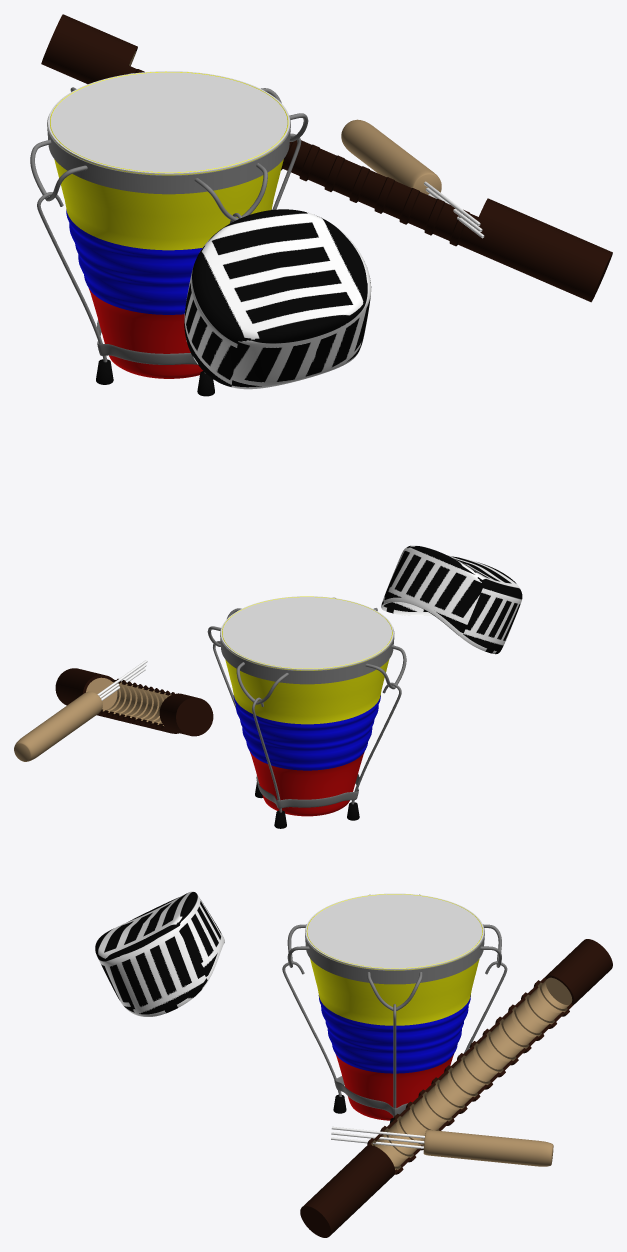
Rendered from Vallenato.fbx.
3 views of the same model, one above another, from view 1: azimuth 30°, elevation 25°; view 2: azimuth 150°, elevation 25°; view 3: azimuth 270°, elevation 25° (orthographic). The views are drawn at different scales.
Visible parts, largest first — view 1: Cylinder.002, Cuerpo, Tapa, Cylinder, CinturonUp, Cylinder.001, Agarres2, Agarres, CinturonDown, Tapones; view 2: Cuerpo, Tapa, Cylinder.002, Cylinder, Cylinder.001, CinturonUp, Agarres, CinturonDown, Agarres2, Tapones; view 3: Cylinder, Cuerpo, Tapa, Cylinder.002, Cylinder.001, CinturonUp, Agarres, Agarres2, CinturonDown.
Part boxes in pixels (<box>): Cylinder.002: <box>184,209,371,389</box>; Cuerpo: <box>50,71,288,378</box>; Tapa: <box>48,71,290,174</box>; Cylinder: <box>41,14,612,302</box>; CinturonUp: <box>47,114,290,194</box>; Cylinder.001: <box>341,119,484,238</box>; Agarres2: <box>30,73,308,221</box>; Agarres: <box>37,133,301,373</box>; CinturonDown: <box>97,320,197,364</box>; Tapones: <box>96,359,214,396</box>; Cuerpo: <box>222,596,392,816</box>; Tapa: <box>220,596,393,670</box>; Cylinder.002: <box>381,545,522,654</box>; Cylinder: <box>55,668,213,736</box>; Cylinder.001: <box>14,660,147,761</box>; CinturonUp: <box>220,628,394,684</box>; Agarres: <box>213,641,401,812</box>; CinturonDown: <box>256,774,359,808</box>; Agarres2: <box>207,597,406,704</box>; Tapones: <box>255,782,359,828</box>; Cylinder: <box>300,939,612,1237</box>; Cuerpo: <box>306,894,482,1120</box>; Tapa: <box>305,893,484,969</box>; Cylinder.002: <box>95,891,224,1016</box>; Cylinder.001: <box>331,1126,553,1166</box>; CinturonUp: <box>305,926,484,984</box>; Agarres: <box>282,961,507,1117</box>; Agarres2: <box>287,894,501,1010</box>; CinturonDown: <box>334,1076,407,1116</box>.
Size of the model in its own units: 618 by 283 by 662.
Materials: 11 (2 with a texture image).
